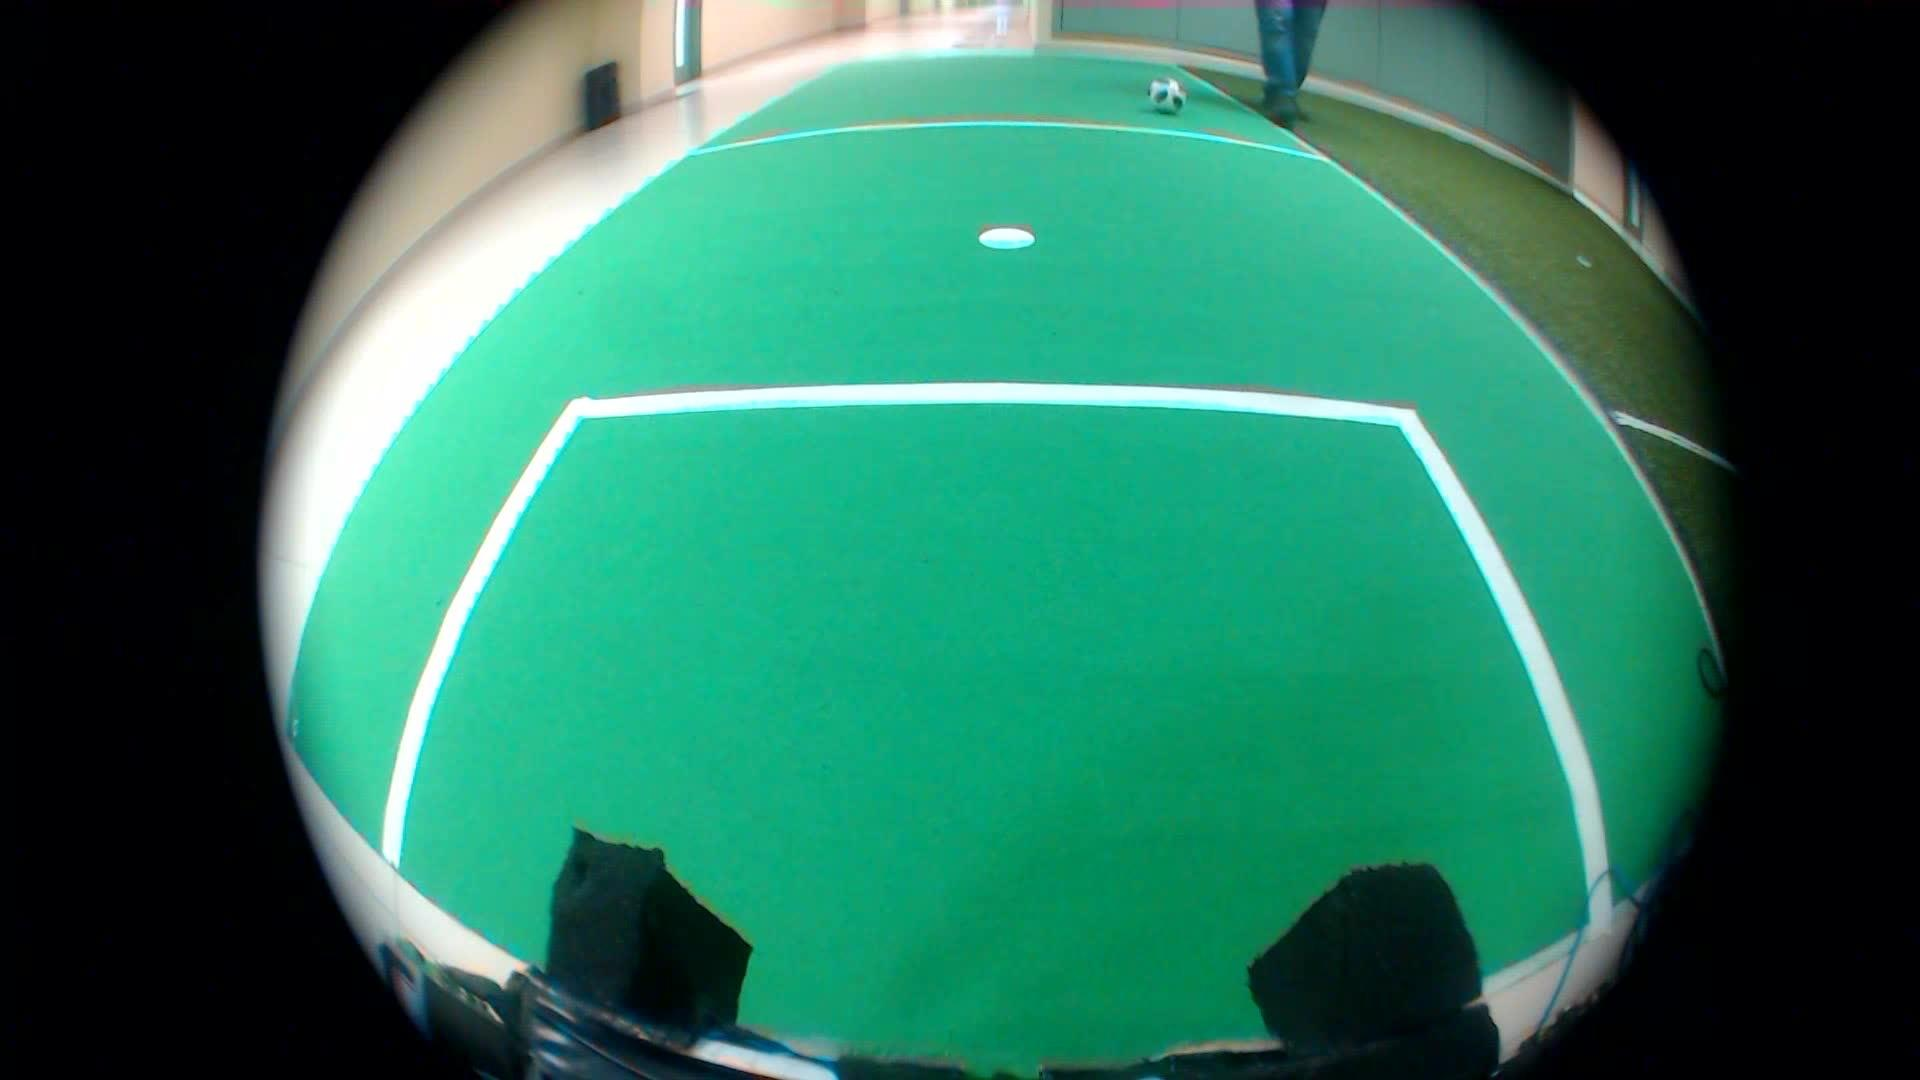ball: (1145, 69, 1189, 121)
